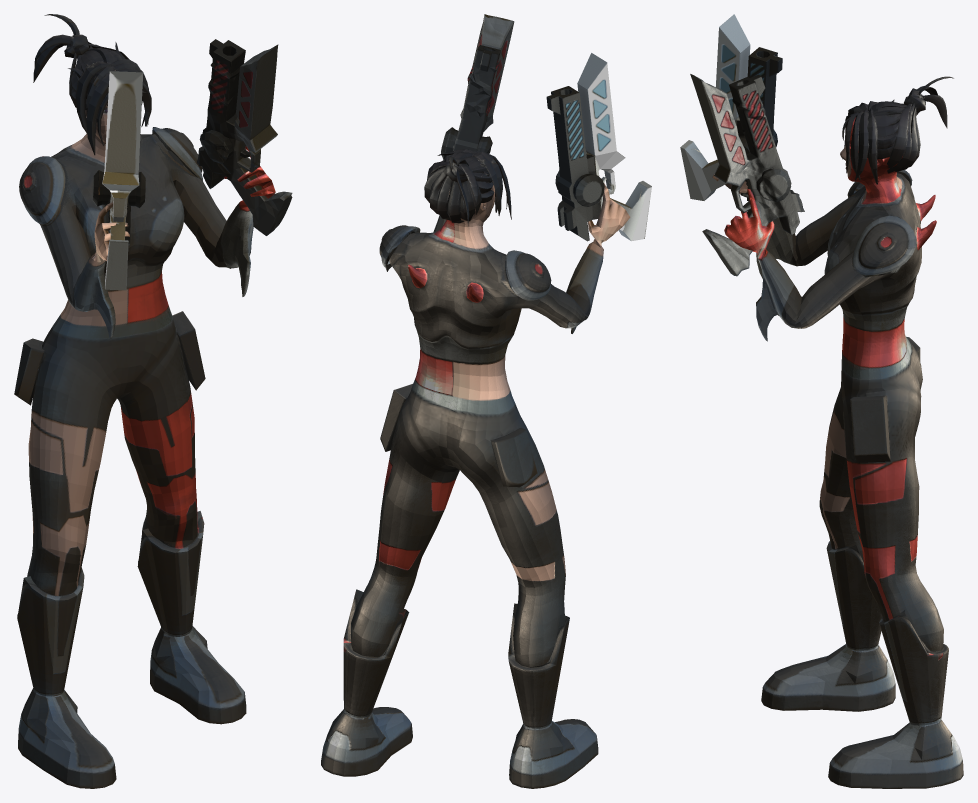
3 views of the same model, side by side, from view 1: azimuth 30°, elevation 25°; view 2: azimuth 150°, elevation 25°; view 3: azimuth 270°, elevation 25° (orthographic). The views are drawn at different scales.
Parts seen in each view (by area): view 1: Dex_LOW_Plane.001; view 2: Dex_LOW_Plane.001; view 3: Dex_LOW_Plane.001.
Boxes of the visible parts, left/top/right/bottom form: Dex_LOW_Plane.001: left=14, top=14, right=292, bottom=788; Dex_LOW_Plane.001: left=321, top=14, right=651, bottom=788; Dex_LOW_Plane.001: left=680, top=14, right=963, bottom=788.
Bounding box in the file's own units: 1.65 × 5.08 × 1.9.
